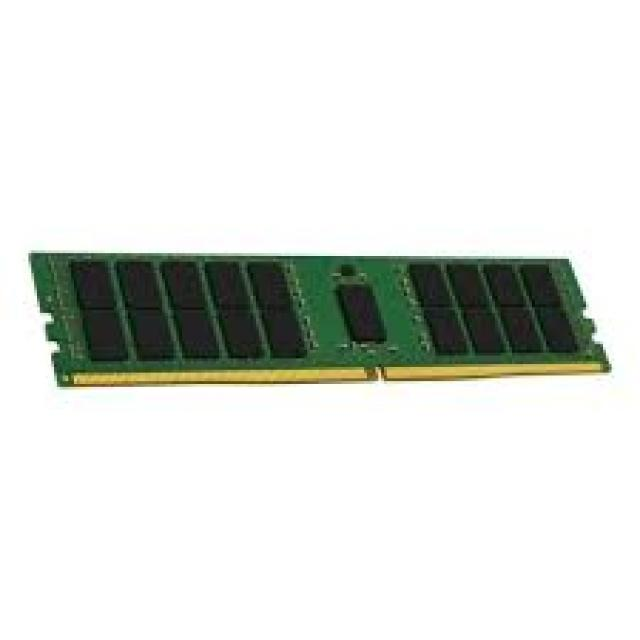Ram: (28, 165, 632, 473)
